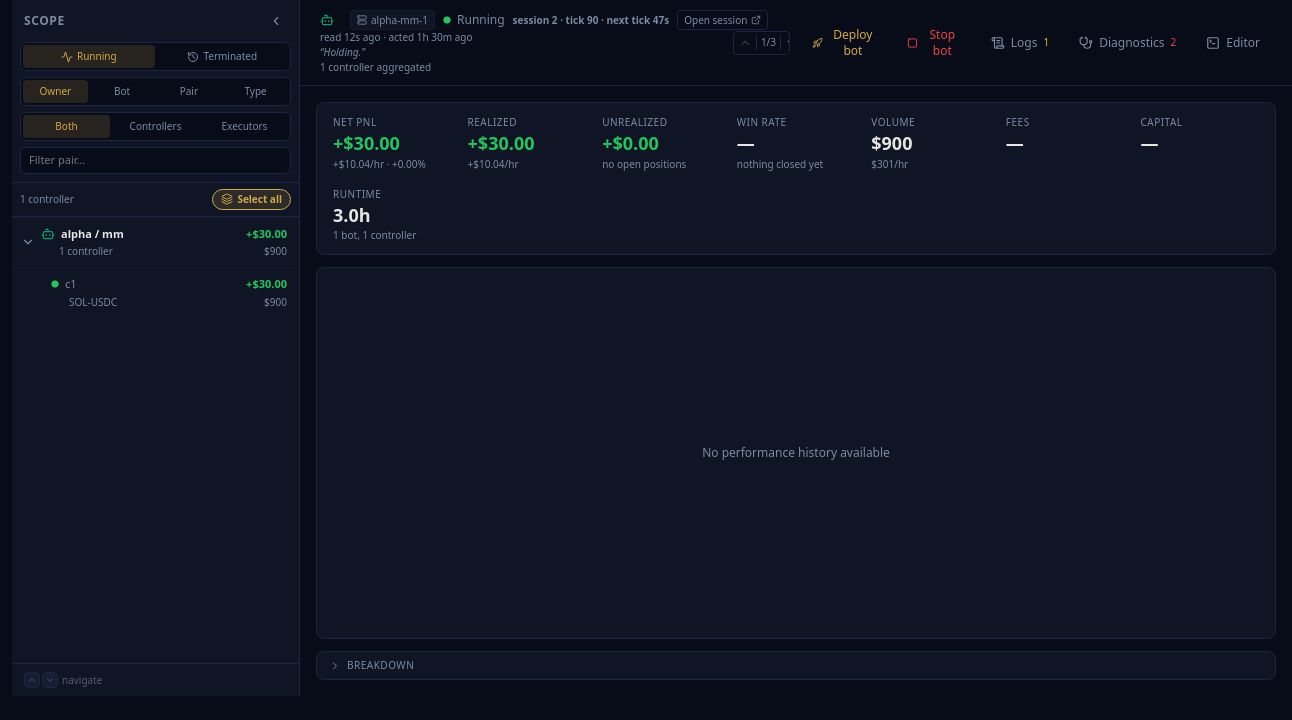
it: the log viewer #64 asked for › still renders the bot's logs, in the same slot
This screenshot has width=1292, height=720.
Step 1. Click the button "Logs 1" → (1020, 43), box [979,29,1061,57]
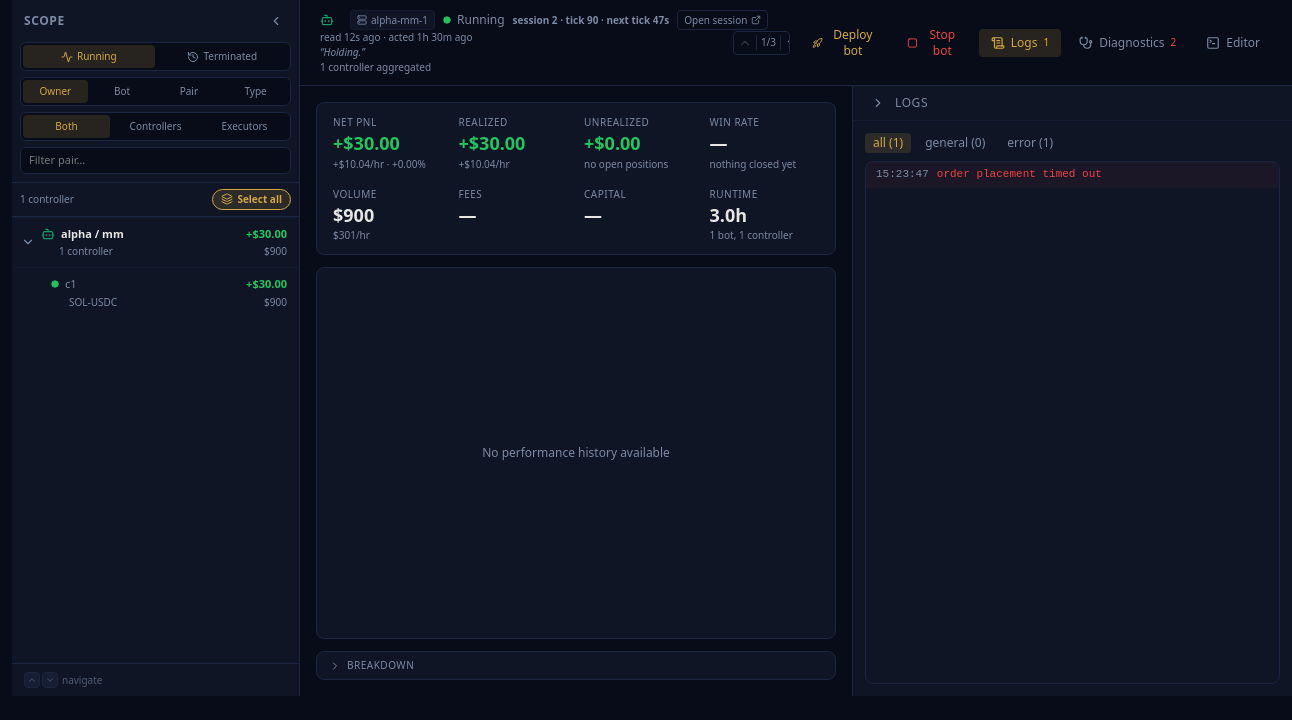
Expected: the text "order placement timed out" is shown, [937,166,1102,184]
Expected: the button "all (1)" is shown, [865,133,911,153]
